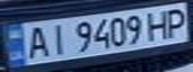0: (109, 15, 130, 47)
4: (90, 16, 112, 51)
9: (69, 18, 97, 53), (124, 12, 148, 45)
A: (21, 24, 51, 60)
H: (142, 8, 175, 41)
I: (45, 20, 72, 56)
P: (160, 4, 193, 38)
